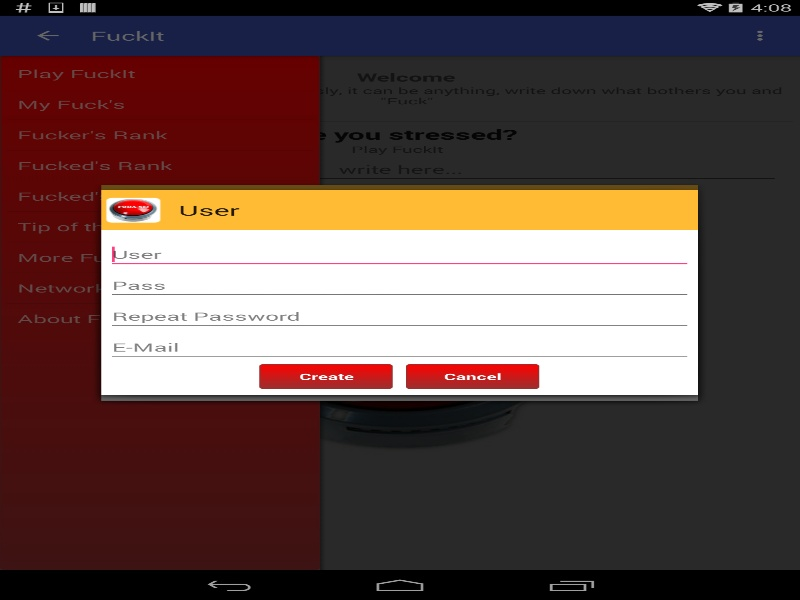Button: (405, 364, 539, 389), (259, 364, 392, 389)
Input: (106, 240, 692, 268), (106, 271, 692, 299), (106, 302, 692, 330), (106, 333, 692, 361)
